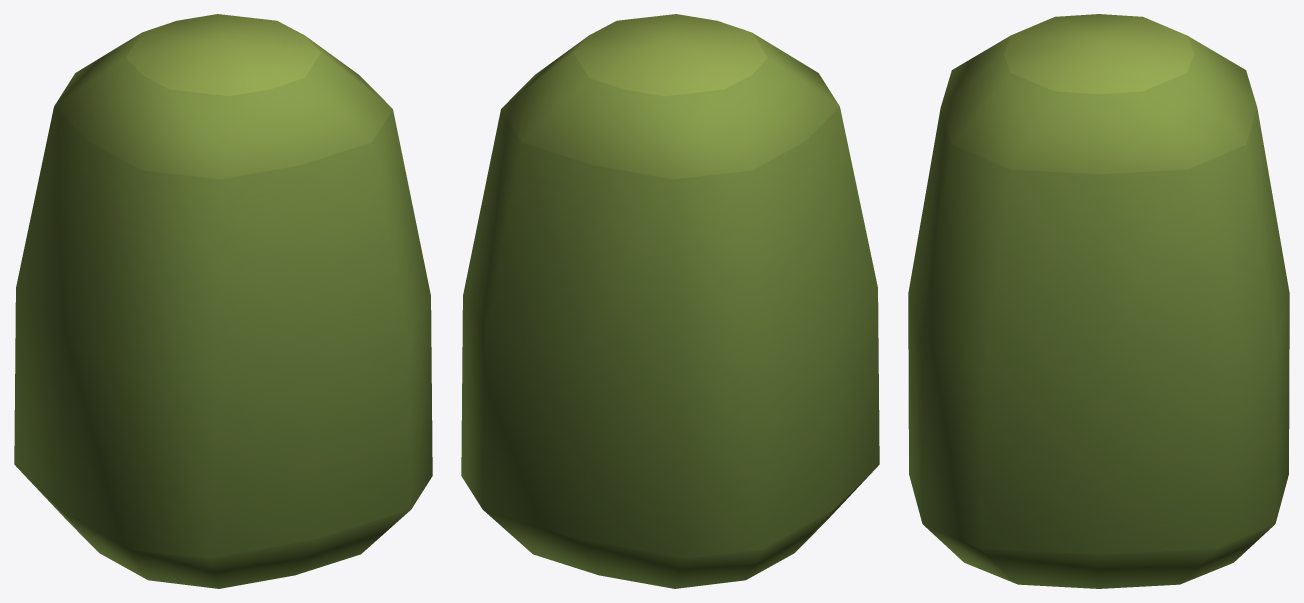
The model's file is bush_plant_big_tall.fbx.
3 views of the same model, side by side, from view 1: azimuth 30°, elevation 25°; view 2: azimuth 150°, elevation 25°; view 3: azimuth 270°, elevation 25° (orthographic).
Visible parts, largest first — view 1: bush_plant_big_tall; view 2: bush_plant_big_tall; view 3: bush_plant_big_tall.
Boxes of the visible parts, x1,y1,x2,y2 form: bush_plant_big_tall: [14, 14, 432, 588]; bush_plant_big_tall: [461, 14, 879, 588]; bush_plant_big_tall: [908, 14, 1289, 588].
Bounding box in the file's own units: 95.56 × 138 × 95.56.
